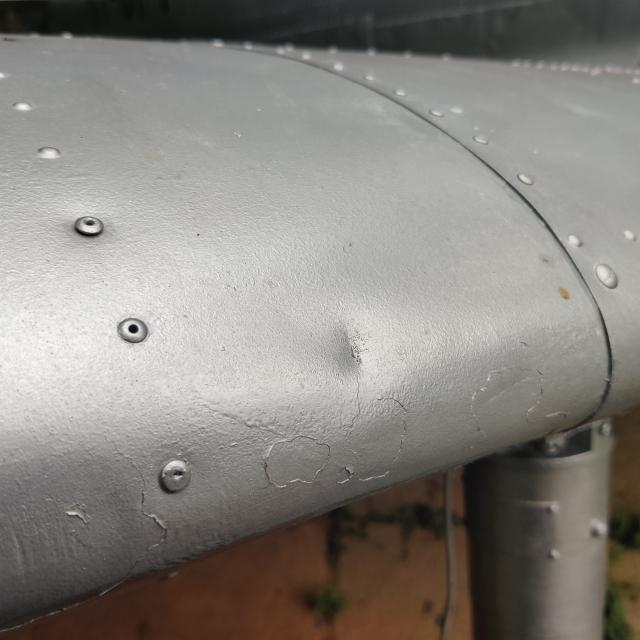dent: (294, 299, 414, 416)
